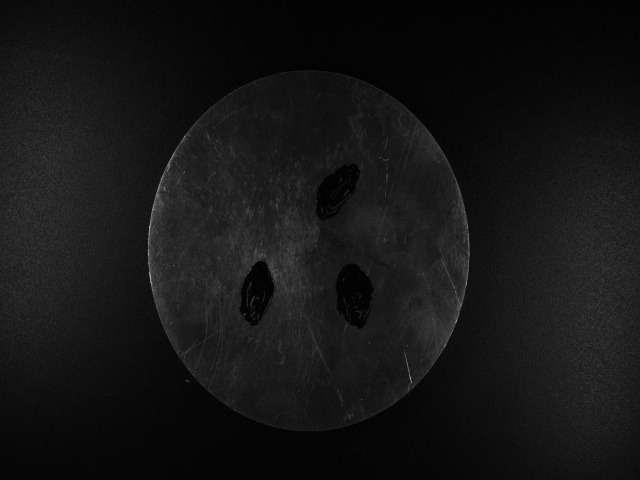zang_wu: (311, 160, 367, 222), (331, 258, 376, 335), (237, 257, 280, 327)
